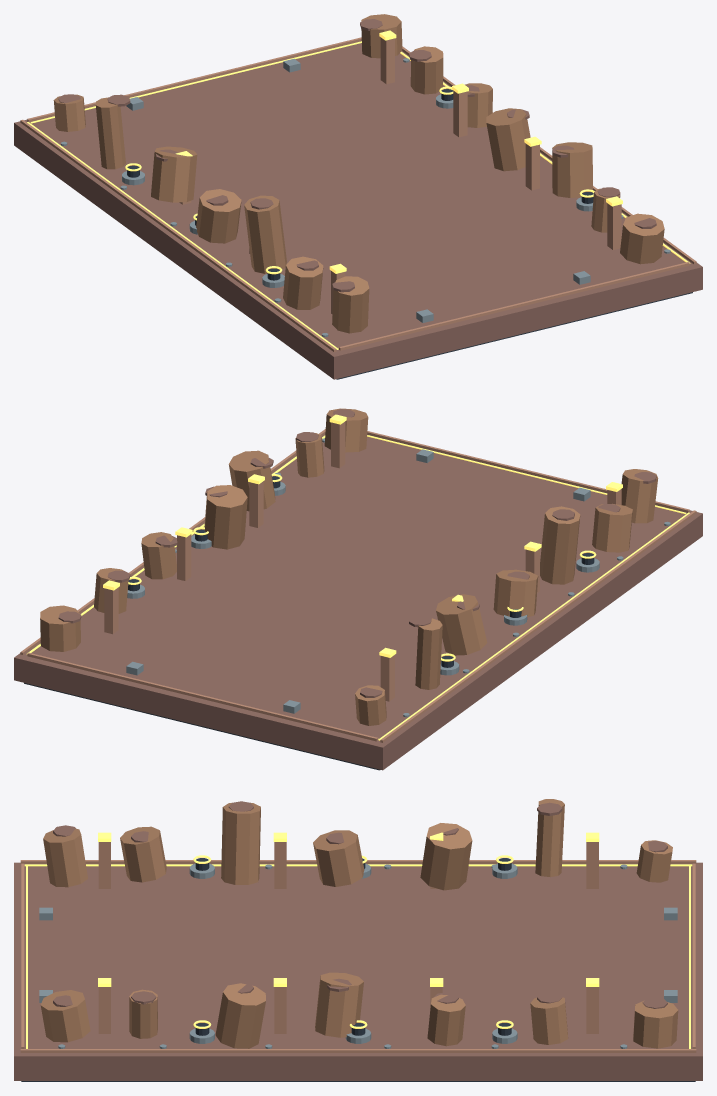
Rendered from rustwind_canyon.glb.
3 renders of one model, top to bottom at view 1: azimuth 30°, elevation 25°; view 2: azimuth 150°, elevation 25°; view 3: azimuth 270°, elevation 25°, orthographic. The views are drawn at different scales.
Parts seen in each view (by area): view 1: High-resolution arena body, Weathered red rock sandstone pillar.002, Weathered red rock sandstone pillar.004, Weathered red rock sandstone pillar.010, Weathered red rock sandstone pillar.009, Weathered red rock sandstone pillar.003, Outer safety rail, Weathered red rock sandstone pillar.007, Weathered red rock sandstone pillar, Weathered red rock sandstone pillar.001, Weathered red rock sandstone pillar.005, Bumper and brake rail (+13 smaller); view 2: High-resolution arena body, Weathered red rock sandstone pillar.002, Weathered red rock sandstone pillar.010, Weathered red rock sandstone pillar.004, Outer safety rail, Weathered red rock sandstone pillar.003, Weathered red rock sandstone pillar.001, Weathered red rock sandstone pillar.005, Bumper and brake rail.001, Weathered red rock sandstone pillar.013, Weathered red rock sandstone pillar, Weathered red rock sandstone pillar.009 (+14 smaller); view 3: High-resolution arena body, Weathered red rock sandstone pillar.002, Weathered red rock sandstone pillar.004, Outer safety rail.001, Weathered red rock sandstone pillar.009, Weathered red rock sandstone pillar.010, Weathered red rock sandstone pillar.003, Weathered red rock sandstone pillar, Weathered red rock sandstone pillar.007, Weathered red rock sandstone pillar.001, Weathered red rock sandstone pillar.005, Weathered red rock sandstone pillar.013 (+15 smaller).
Boxes of the visible parts, x1,y1,x2,y2 form: High-resolution arena body: [14, 43, 702, 379]; Weathered red rock sandstone pillar.002: [244, 195, 286, 273]; Weathered red rock sandstone pillar.004: [151, 146, 197, 202]; Weathered red rock sandstone pillar.010: [486, 108, 530, 171]; Weathered red rock sandstone pillar.009: [552, 142, 592, 197]; Weathered red rock sandstone pillar.003: [196, 189, 241, 243]; Outer safety rail: [20, 119, 336, 352]; Weathered red rock sandstone pillar.007: [620, 213, 664, 264]; Weathered red rock sandstone pillar: [332, 276, 369, 333]; Weathered red rock sandstone pillar.001: [283, 256, 323, 309]; Weathered red rock sandstone pillar.005: [95, 97, 125, 169]; Bumper and brake rail: [339, 262, 689, 350]; High-resolution arena body: [14, 434, 702, 770]; Weathered red rock sandstone pillar.002: [540, 506, 580, 584]; Weathered red rock sandstone pillar.010: [204, 485, 247, 549]; Weathered red rock sandstone pillar.004: [436, 594, 487, 655]; Outer safety rail: [380, 510, 696, 742]; Weathered red rock sandstone pillar.003: [493, 569, 538, 616]; Weathered red rock sandstone pillar.001: [592, 503, 632, 552]; Weathered red rock sandstone pillar.005: [415, 618, 442, 689]; Bumper and brake rail.001: [27, 652, 377, 741]; Weathered red rock sandstone pillar.013: [40, 605, 80, 651]; Weathered red rock sandstone pillar: [621, 469, 658, 523]; Weathered red rock sandstone pillar.009: [228, 450, 275, 511]; High-resolution arena body: [14, 862, 702, 1080]; Weathered red rock sandstone pillar.002: [221, 802, 260, 884]; Weathered red rock sandstone pillar.004: [420, 823, 472, 890]; Outer safety rail.001: [20, 1049, 696, 1052]; Weathered red rock sandstone pillar.009: [215, 983, 265, 1048]; Weathered red rock sandstone pillar.010: [315, 972, 363, 1037]; Weathered red rock sandstone pillar.003: [313, 830, 364, 886]; Weathered red rock sandstone pillar: [43, 828, 87, 887]; Weathered red rock sandstone pillar.007: [40, 990, 90, 1042]; Weathered red rock sandstone pillar.001: [120, 826, 166, 882]; Weathered red rock sandstone pillar.005: [535, 799, 564, 876]; Weathered red rock sandstone pillar.013: [633, 1000, 678, 1048].
Bounding box in the file's own units: 23.5 × 5.85 × 35.3.
